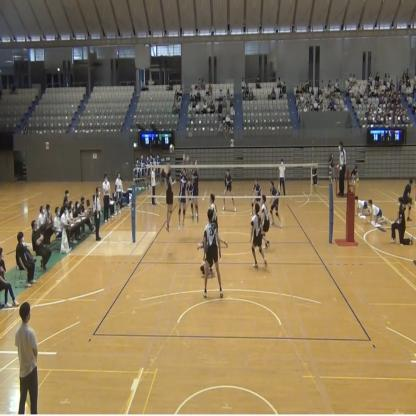spike: (158, 152, 177, 238)
